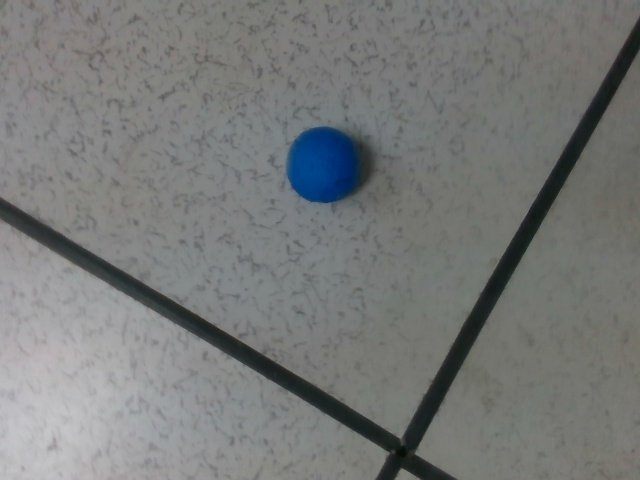blueball: (281, 123, 367, 204)
